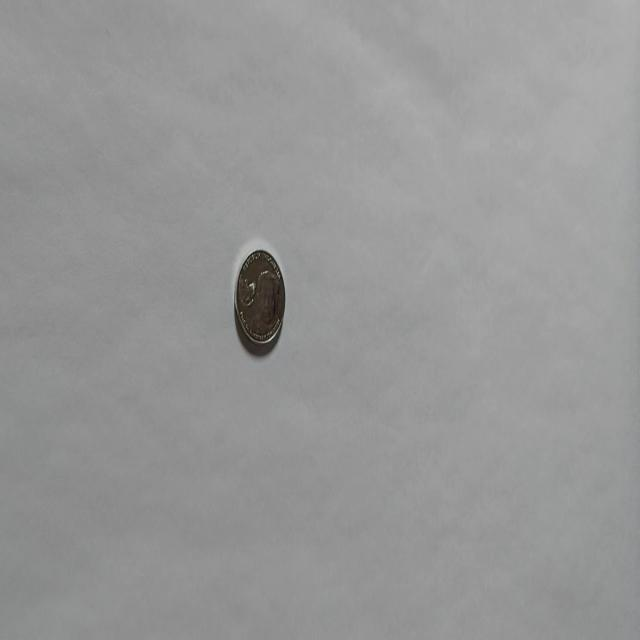seratus rupiah: (232, 247, 286, 348)
